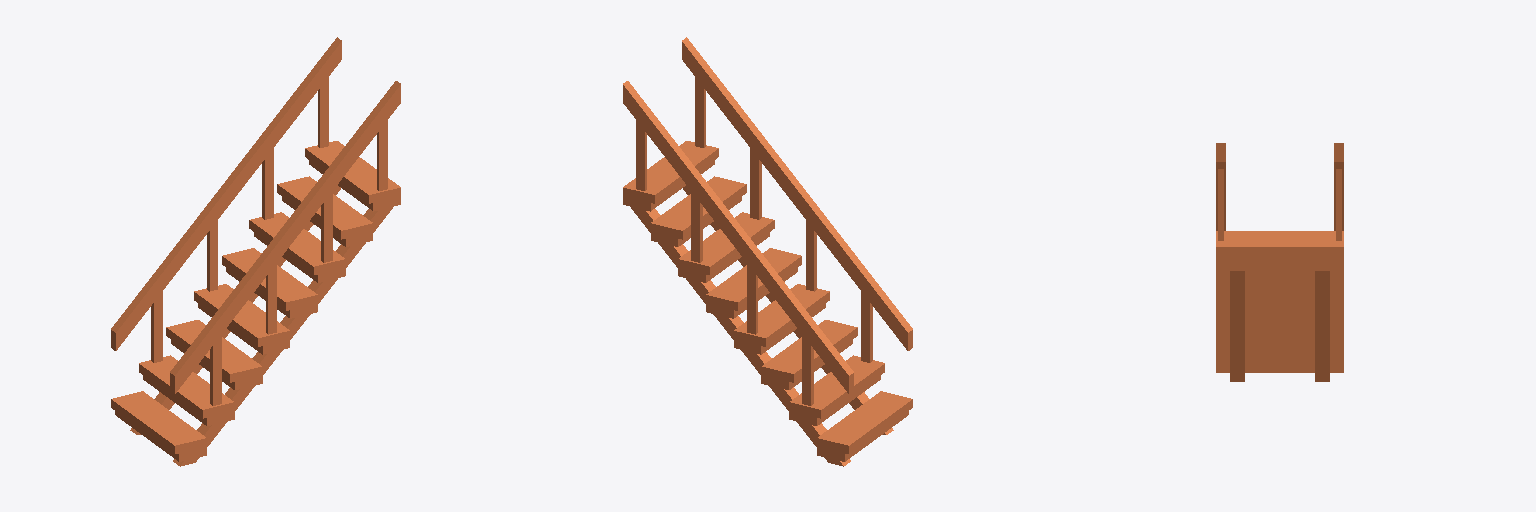
The model's file is stairsWoodHandrail.obj.
3 views of the same model, side by side, from view 1: azimuth 30°, elevation 25°; view 2: azimuth 150°, elevation 25°; view 3: azimuth 270°, elevation 25° (orthographic).
Visible parts, largest first — view 1: stairsWoodHandrail, rail; view 2: stairsWoodHandrail, rail; view 3: stairsWoodHandrail, rail.
Part boxes in pixels (x1,y1,x2,y2): stairsWoodHandrail: (111,141,400,466); rail: (111,37,400,405); stairsWoodHandrail: (623,141,912,466); rail: (623,37,912,405); stairsWoodHandrail: (1216,231,1343,381); rail: (1216,143,1343,240).
Size of the model in its own units: 1.02 by 1.45 by 0.5.